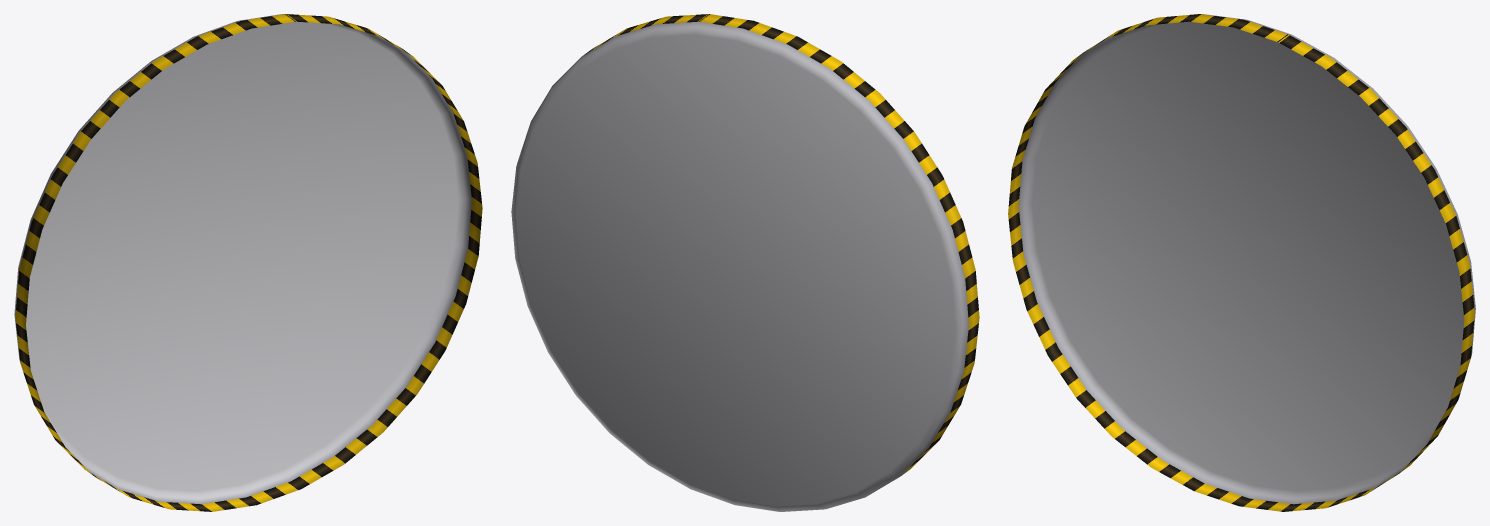
The model's file is base_veicolo.fbx.
3 renders of one model, left to right at view 1: azimuth 30°, elevation 25°; view 2: azimuth 150°, elevation 25°; view 3: azimuth 330°, elevation 25°, orthographic.
Visible parts, largest first — view 1: base_veicolo; view 2: base_veicolo; view 3: base_veicolo.
Boxes of the visible parts, bbox=[...] form: base_veicolo: bbox=[14, 14, 482, 511]; base_veicolo: bbox=[511, 14, 979, 511]; base_veicolo: bbox=[1008, 14, 1475, 511].
Size of the model in its own units: 441 by 441 by 26.11.
